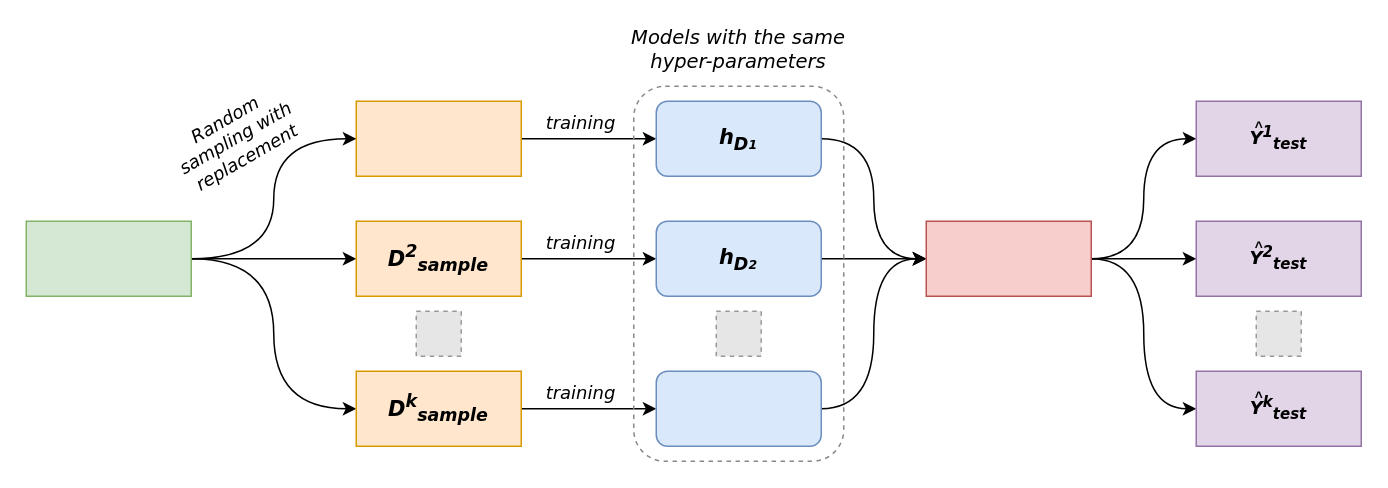
Image size: 1388x488. Some labels were removed from this diagram. Grey dashed boxes stand in for pictures. Each missing label, with the centre of its shape:
"D 1 sample" belongs at (x=438, y=138).
"D train" belongs at (x=108, y=258).
"h D k" belongs at (x=738, y=408).
"X test" belongs at (x=1008, y=258).
